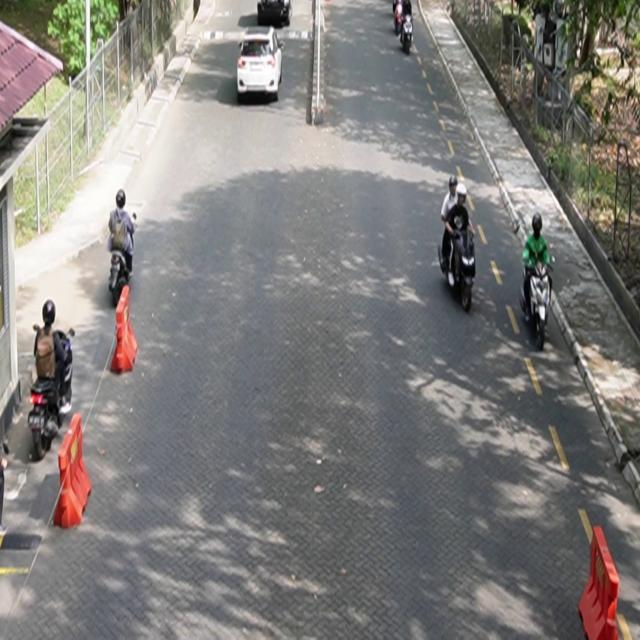car: (238, 26, 286, 103)
